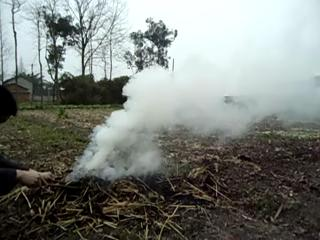yanwu: (68, 42, 291, 179)
